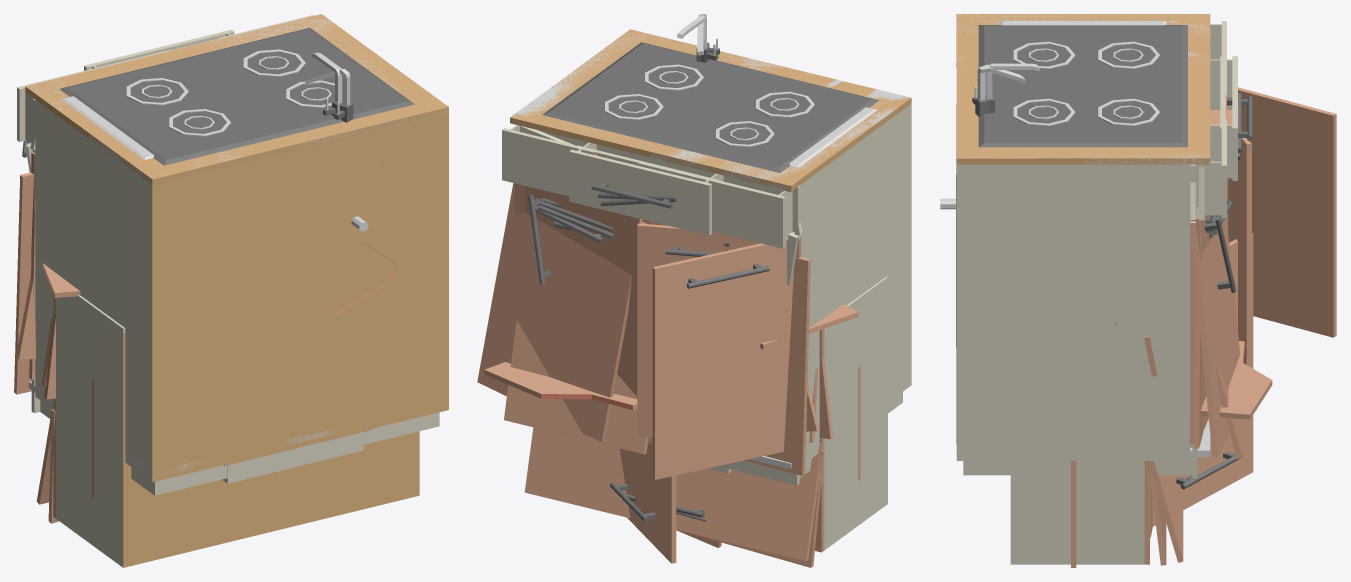
File: KitchenLocker1.fbx
The picture shows the model from 3 angles, left to right: view 1: azimuth 30°, elevation 25°; view 2: azimuth 150°, elevation 25°; view 3: azimuth 270°, elevation 25°; orthographic projection. The views are drawn at different scales.
Visible parts, largest first — view 1: KitchenLocker1.1, KitchenLocker3.3, KitchenLocker1.4, KitchenLockerTop1.2, KitchenLocker3.1, KitchenLocker2.4, KitchenLockerTop1.5, KitchenLocker1.2, KitchenLockerTop1.4, KitchenLocker2.2, KitchenLocker3.4, KitchenLockerTop1.3 (+9 smaller); view 2: KitchenLocker1.3, KitchenLocker1.4, KitchenLocker3.1, KitchenLockerTop1.4, KitchenLocker1.1, KitchenLocker1.2, KitchenLockerTop1.2, KitchenLocker2.2, KitchenLocker2.1, KitchenLocker4.4, KitchenLocker2.3, KitchenLocker2.4 (+11 smaller); view 3: KitchenLocker1.1, KitchenLocker1.4, KitchenLocker3.1, KitchenLocker1.3, KitchenLocker3.4, KitchenLocker2.4, KitchenLockerTop1.5, KitchenLockerTop1.4, KitchenLocker1.2, KitchenLocker2.2, KitchenLocker3.3, KitchenLockerTop2.3 (+10 smaller).
Boxes of the visible parts, x1,y1,x2,y2 form: KitchenLocker1.1: [26, 14, 448, 482]; KitchenLocker3.3: [31, 23, 448, 478]; KitchenLocker1.4: [25, 102, 448, 481]; KitchenLockerTop1.2: [53, 295, 419, 567]; KitchenLocker3.1: [29, 15, 448, 184]; KitchenLocker2.4: [30, 101, 300, 481]; KitchenLockerTop1.5: [56, 307, 419, 567]; KitchenLocker1.2: [17, 14, 448, 379]; KitchenLockerTop1.4: [36, 263, 419, 566]; KitchenLocker2.2: [35, 68, 448, 481]; KitchenLocker3.4: [35, 109, 448, 481]; KitchenLockerTop1.3: [44, 313, 419, 566]; KitchenLocker1.3: [511, 31, 872, 479]; KitchenLocker1.4: [477, 105, 911, 462]; KitchenLocker3.1: [514, 32, 908, 188]; KitchenLockerTop1.4: [524, 284, 887, 560]; KitchenLocker1.1: [510, 29, 911, 462]; KitchenLocker1.2: [502, 30, 910, 248]; KitchenLockerTop1.2: [815, 276, 887, 552]; KitchenLocker2.2: [539, 14, 911, 459]; KitchenLocker2.1: [512, 16, 909, 235]; KitchenLocker4.4: [569, 142, 723, 235]; KitchenLocker2.3: [484, 46, 810, 475]; KitchenLocker2.4: [637, 114, 911, 437]; KitchenLocker1.1: [956, 14, 1210, 460]; KitchenLocker1.4: [956, 164, 1240, 460]; KitchenLocker3.1: [957, 14, 1210, 214]; KitchenLocker1.3: [956, 14, 1336, 453]; KitchenLocker3.4: [956, 165, 1242, 460]; KitchenLocker2.4: [957, 138, 1254, 460]; KitchenLockerTop1.5: [1010, 461, 1144, 564]; KitchenLockerTop1.4: [1010, 322, 1192, 564]; KitchenLocker1.2: [956, 14, 1241, 448]; KitchenLocker2.2: [940, 64, 1216, 460]; KitchenLocker3.3: [956, 27, 1204, 460]; KitchenLockerTop2.3: [1152, 233, 1253, 526].
Size of the model in its own units: 192 by 250 by 190.
